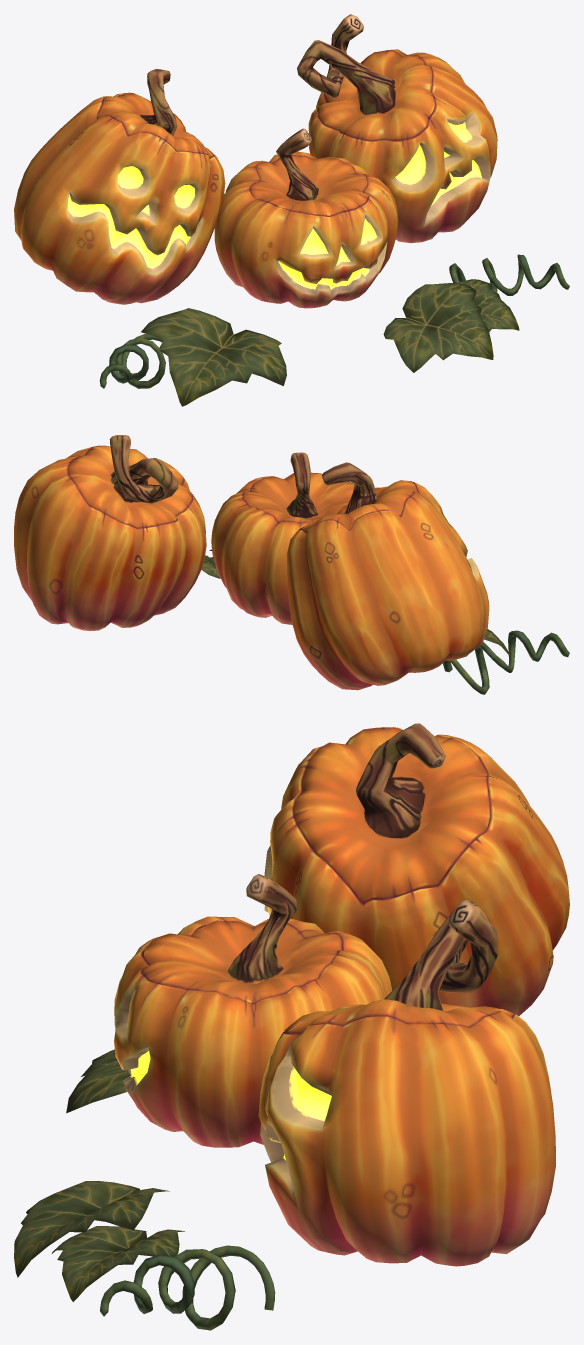
File: Pumpkins.fbx
3 views of the same model, one above another, from view 1: azimuth 30°, elevation 25°; view 2: azimuth 150°, elevation 25°; view 3: azimuth 270°, elevation 25° (orthographic). The views are drawn at different scales.
Parts seen in each view (by area): view 1: Pumpkin_01, Pumpkin_03, Pumpkin_02, Leaves; view 2: Pumpkin_01, Pumpkin_03, Pumpkin_02, Leaves; view 3: Pumpkin_03, Pumpkin_01, Pumpkin_02, Leaves.
Boxes of the visible parts, x1,y1,x2,y2 form: Pumpkin_01: (14, 69, 225, 304); Pumpkin_03: (297, 14, 497, 243); Pumpkin_02: (214, 128, 398, 308); Leaves: (99, 254, 569, 406); Pumpkin_01: (286, 462, 489, 690); Pumpkin_03: (14, 435, 206, 630); Pumpkin_02: (211, 452, 354, 624); Leaves: (201, 549, 569, 694); Pumpkin_03: (258, 899, 555, 1266); Pumpkin_01: (264, 723, 569, 1016); Pumpkin_02: (114, 874, 392, 1147); Leaves: (14, 1049, 275, 1330).
Bounding box in the file's own units: 2.09 × 1.09 × 1.38.
